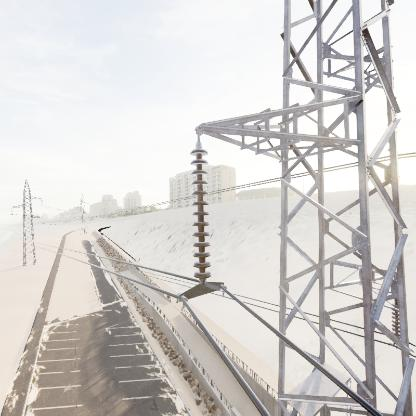insulator: (185, 146, 217, 285)
